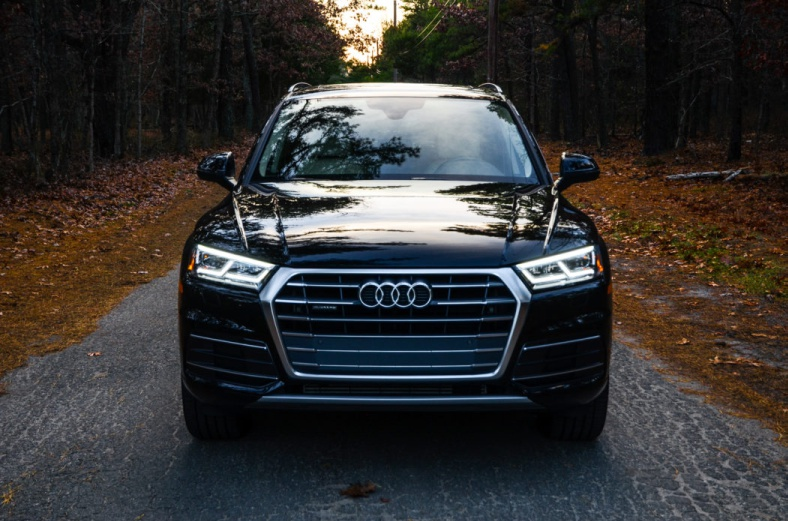audi: (348, 272, 443, 320)
